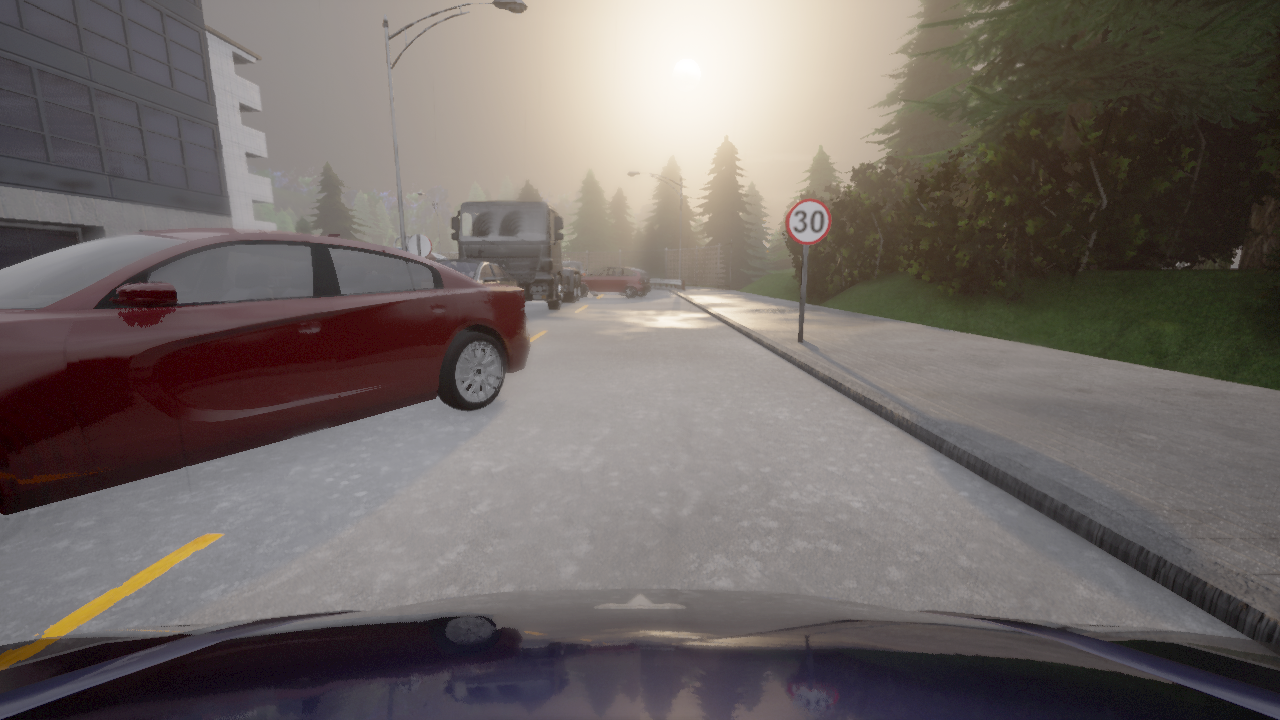cyclist: (0, 588, 1279, 719), (0, 227, 531, 515), (451, 201, 580, 310), (581, 266, 651, 298), (434, 259, 517, 285), (561, 261, 586, 276), (563, 267, 582, 277)
